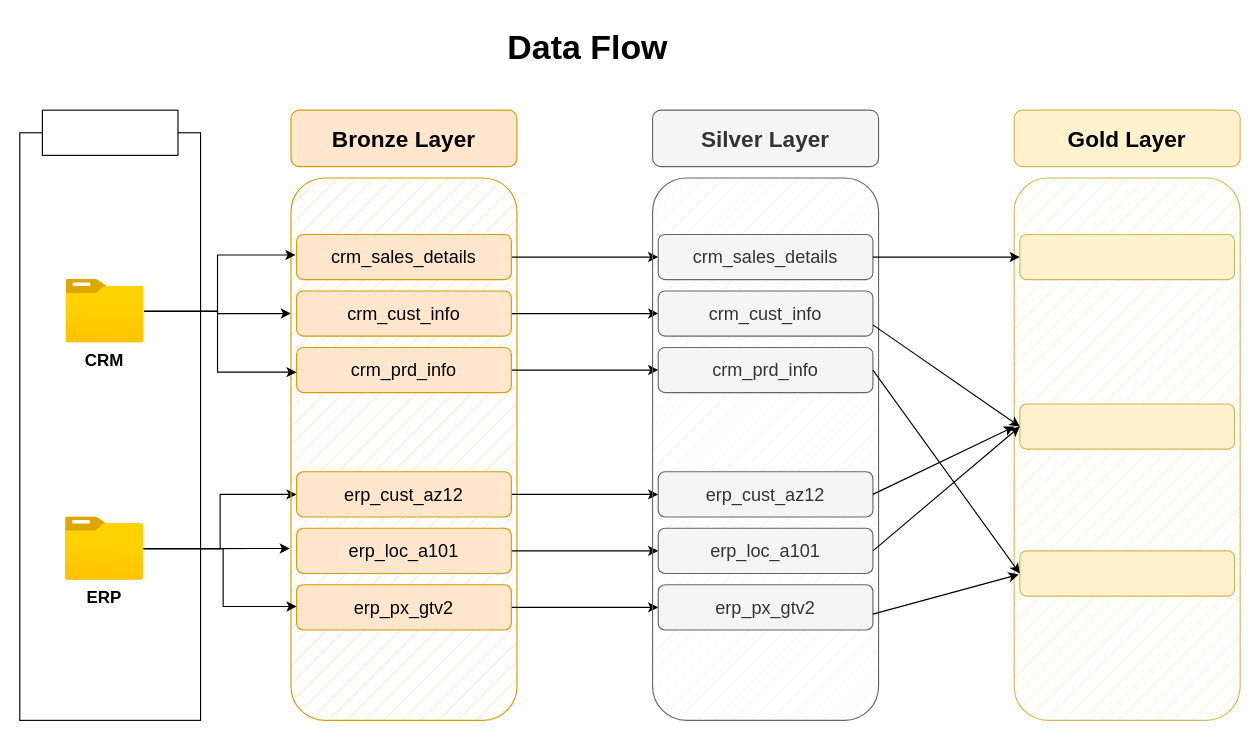
Image size: 1260x740. Some labels were removed from this diagram. Here are the shapes that lost their labels. From the top down, the box of each, then its label:
(41, 109, 178, 155): Sources
(1019, 233, 1235, 280): fact_sales
(1019, 403, 1235, 449): dim_customers
(1019, 550, 1235, 596): dim_products
